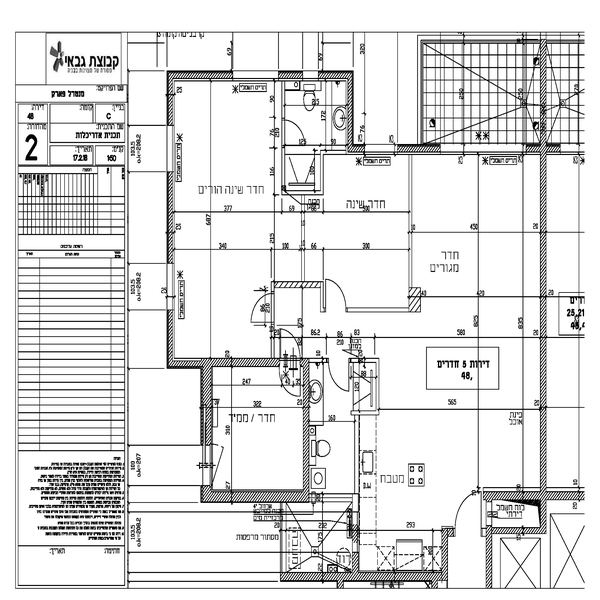door: (447, 487, 491, 532), (276, 362, 306, 406), (328, 354, 357, 399), (245, 292, 276, 328), (319, 276, 348, 307), (277, 117, 306, 147)
room: (333, 140, 553, 490), (153, 63, 329, 368), (192, 352, 317, 509)
wall: (537, 147, 551, 494), (282, 564, 451, 583), (302, 363, 317, 503), (199, 484, 305, 503), (342, 75, 365, 160), (164, 354, 285, 369), (199, 360, 216, 449), (162, 172, 178, 266), (437, 531, 463, 583), (484, 522, 549, 541), (482, 527, 498, 596), (163, 305, 177, 367), (165, 75, 178, 131), (165, 70, 230, 81), (279, 66, 306, 84), (322, 69, 354, 82), (397, 144, 440, 153)
window: (235, 64, 280, 83), (164, 129, 181, 171)
